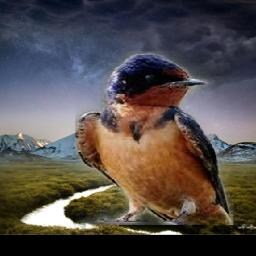Swallow: (74, 51, 232, 225)
